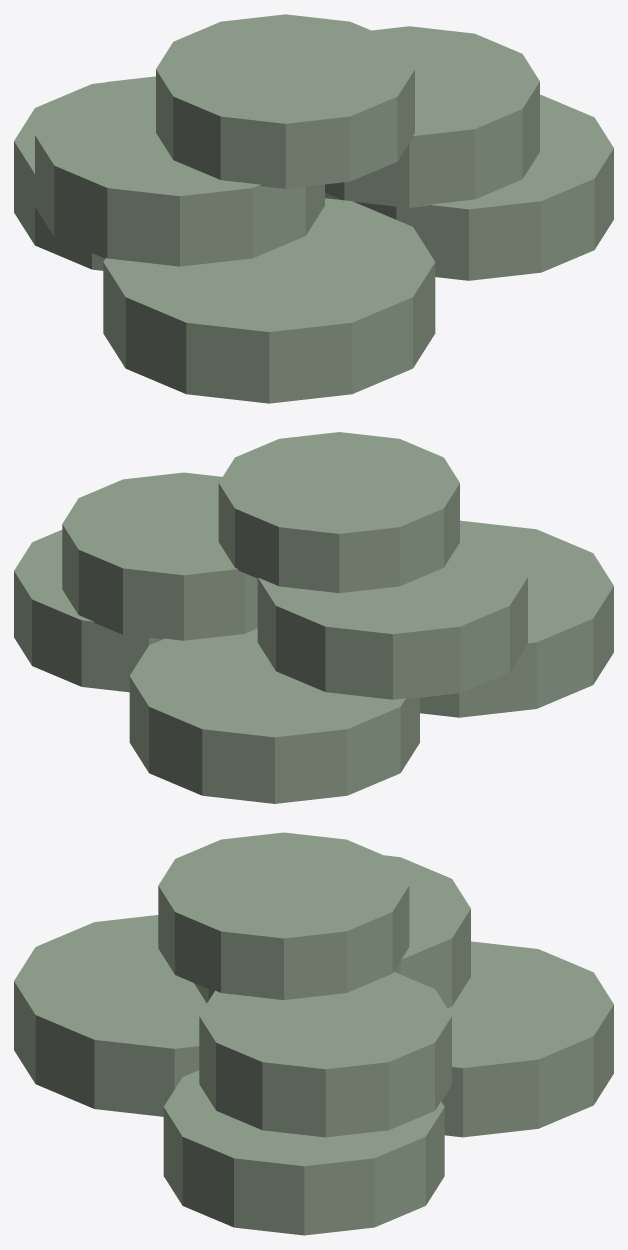
The model's file is tire_pile.fbx.
The picture shows the model from 3 angles, top to bottom: view 1: azimuth 30°, elevation 25°; view 2: azimuth 150°, elevation 25°; view 3: azimuth 270°, elevation 25°; orthographic projection. The views are drawn at different scales.
Parts seen in each view (by area): view 1: tire_pile; view 2: tire_pile; view 3: tire_pile.
Part boxes in pixels (bbox=[...]): tire_pile: bbox=[14, 14, 613, 403]; tire_pile: bbox=[14, 432, 613, 803]; tire_pile: bbox=[14, 832, 613, 1235].
Bounding box in the file's own units: 3.19 × 1.17 × 3.2.
